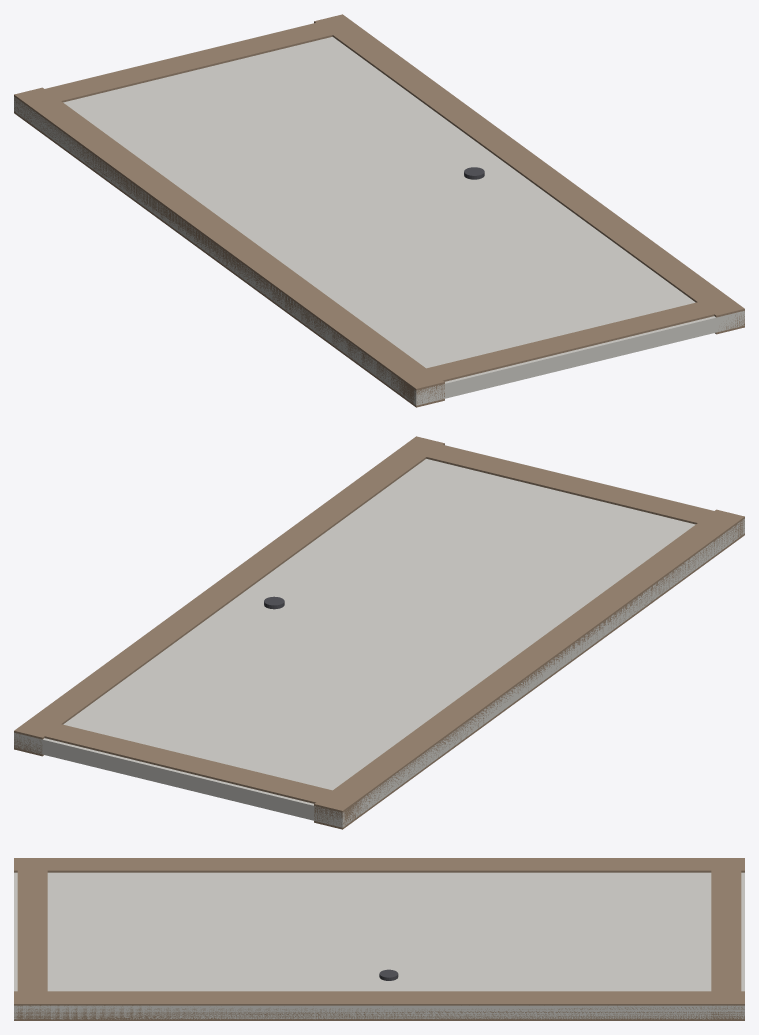
File: fusuma_sliding.glb
The picture shows the model from 3 angles, top to bottom: view 1: azimuth 30°, elevation 25°; view 2: azimuth 150°, elevation 25°; view 3: azimuth 270°, elevation 25°; orthographic projection. The views are drawn at different scales.
Parts seen in each view (by area): view 1: world; view 2: world; view 3: world.
Boxes of the visible parts, x1,y1,x2,y2 form: world: (14, 14, 744, 407); world: (14, 436, 744, 829); world: (14, 858, 744, 1020).
Bounding box in the file's own units: 0.92 × 0.055 × 1.95.
